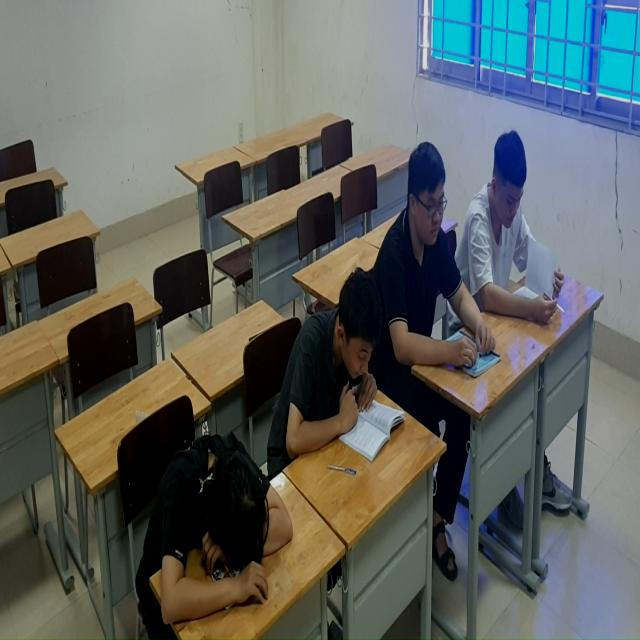read: (268, 264, 410, 485), (385, 137, 497, 385), (458, 119, 572, 343)
sleep: (124, 439, 295, 640)
